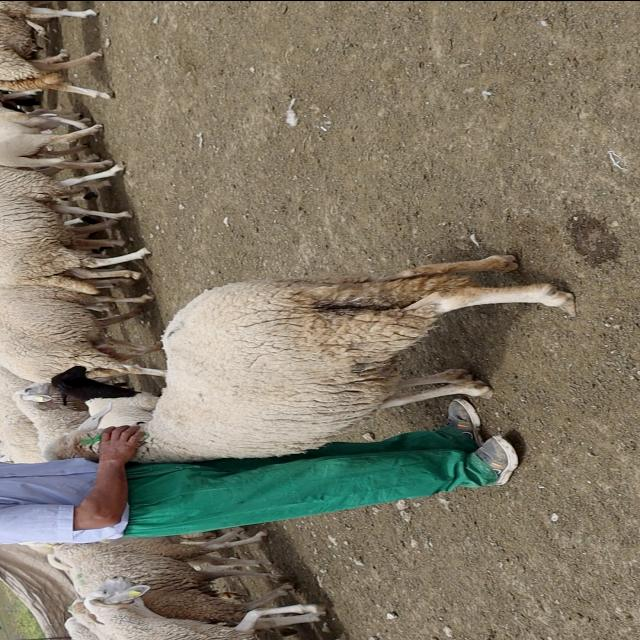Score_4: (135, 253, 575, 461)
